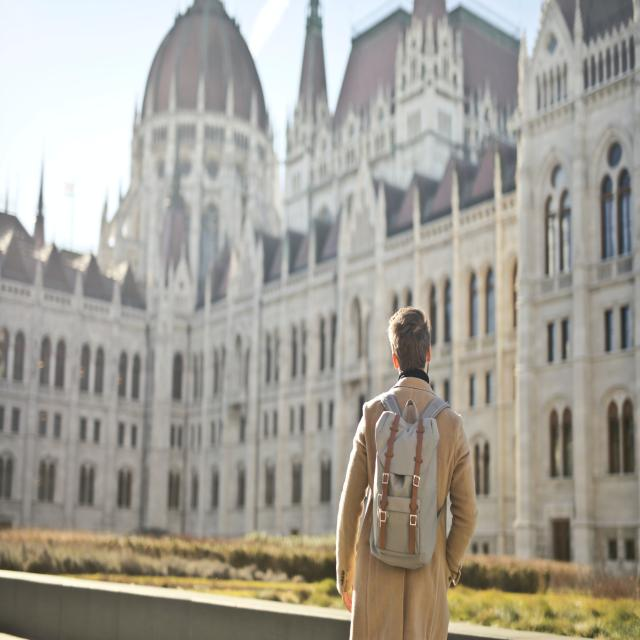backpack: (372, 390, 452, 574)
